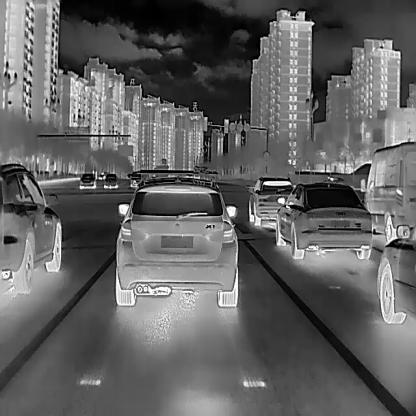car: (111, 172, 240, 306), (0, 161, 63, 294), (274, 180, 374, 261), (360, 136, 414, 245), (375, 220, 415, 324), (246, 174, 295, 227), (78, 171, 96, 190), (102, 171, 118, 188), (129, 170, 140, 188)
